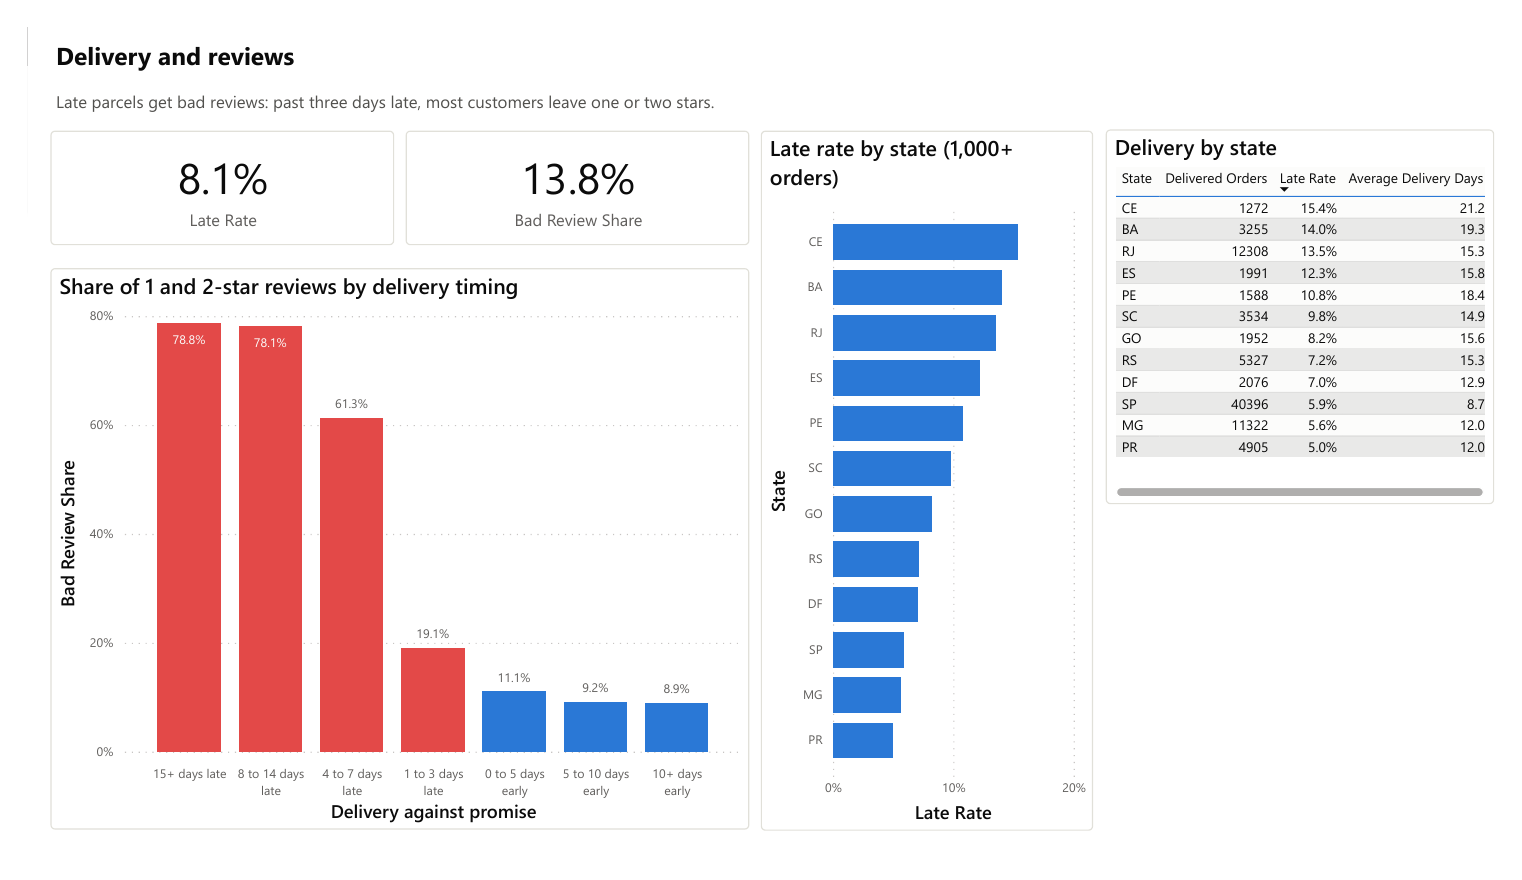

Layout of this report page (visuals, bound fields, positions):
{"tool":"powerbi","page":{"name":"Delivery and reviews","canvas":[1280,720],"ordinal":2},"visuals":[{"type":"card","fields":{"Values":["_Measures.Late Rate"]},"box":[20,90,300,100],"z":0},{"type":"card","fields":{"Values":["_Measures.Bad Review Share"]},"box":[330,90,300,100],"z":1000},{"type":"columnChart","title":"Share of 1 and 2-star reviews by delivery timing","fields":{"Category":["Orders.Delay band"],"Y":["_Measures.Bad Review Share"]},"box":[20,210,610,490],"z":2000},{"type":"barChart","title":"Late rate by state (1,000+ orders)","fields":{"Y":["_Measures.Late Rate"],"Category":["Orders.customer_state"]},"box":[640,89.5,289.7,611],"z":3000},{"type":"tableEx","title":"Delivery by state","fields":{"Values":["Customers.customer_state","_Measures.Delivered Orders","_Measures.Late Rate","_Measures.Average Delivery Days"]},"box":[940.9,89.2,339.1,326.4],"z":4000},{"type":"textbox","box":[20,5,1240,45],"z":5000},{"type":"textbox","box":[20,50,1240,36],"z":6000}]}

Visuals, with their boxes in screenshot pixels (x1, y1, x2, y2), scaled from the page's 1280x720 canvas onto the 1522x880 screenshot:
card - _Measures.Late Rate: {"x1": 24, "y1": 110, "x2": 380, "y2": 232}
card - _Measures.Bad Review Share: {"x1": 392, "y1": 110, "x2": 749, "y2": 232}
"Share of 1 and 2-star reviews by delivery timing" columnChart: {"x1": 24, "y1": 257, "x2": 749, "y2": 856}
"Late rate by state (1,000+ orders)" barChart: {"x1": 761, "y1": 109, "x2": 1105, "y2": 856}
"Delivery by state" tableEx: {"x1": 1119, "y1": 109, "x2": 1521, "y2": 508}
textbox: {"x1": 24, "y1": 6, "x2": 1498, "y2": 61}
textbox: {"x1": 24, "y1": 61, "x2": 1498, "y2": 105}
